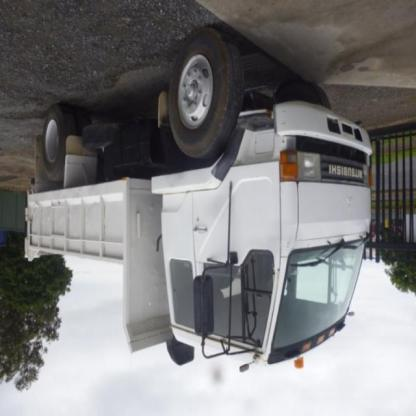truck: (23, 38, 375, 367)
